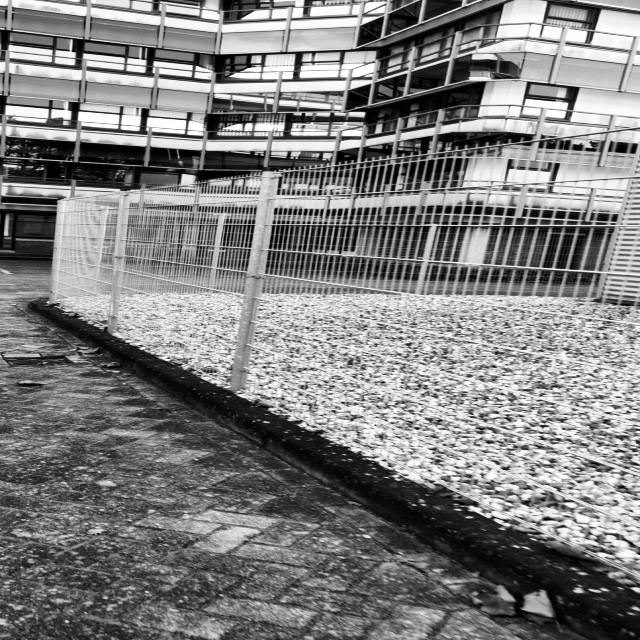fences: (231, 170, 640, 527), (58, 185, 202, 337)
